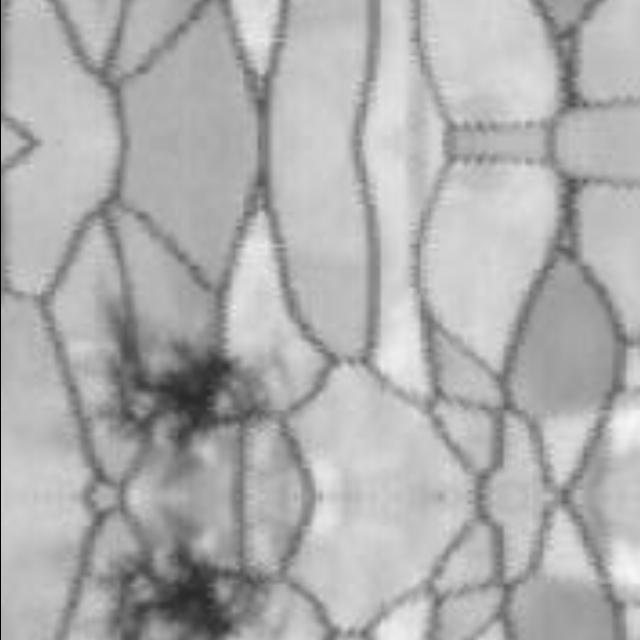good_void: (98, 296, 274, 463), (100, 533, 274, 640)
